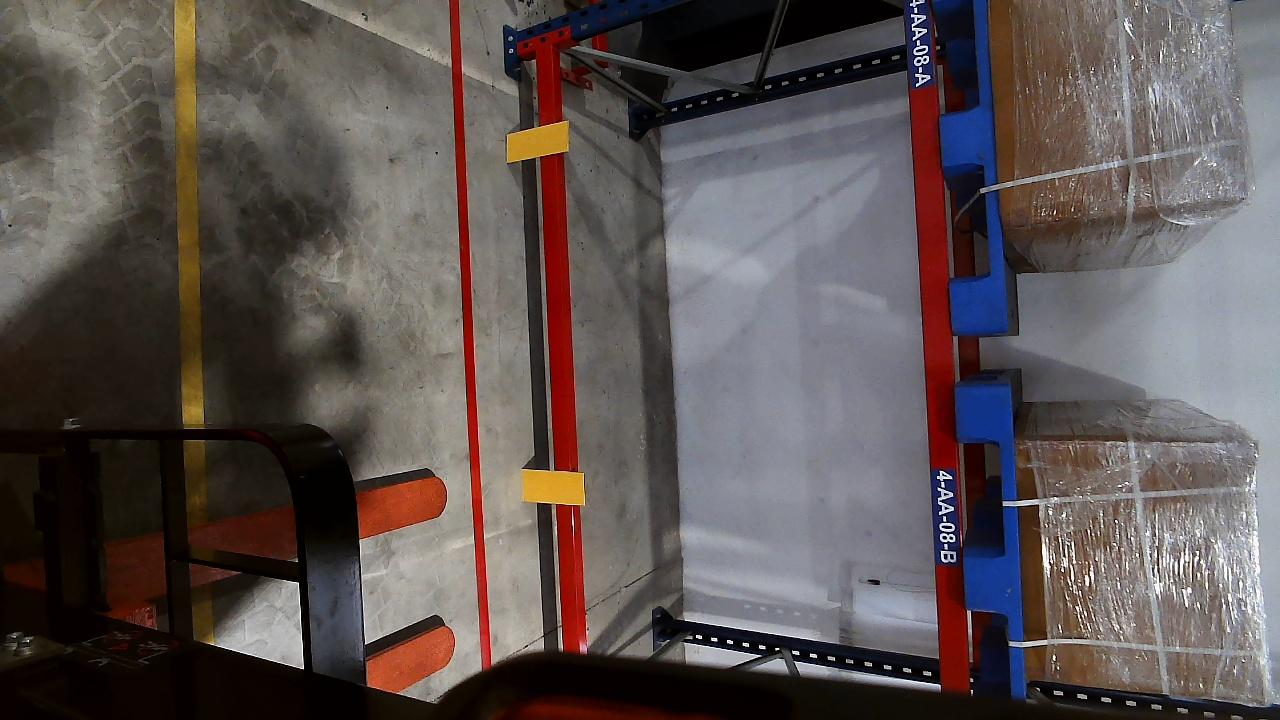h_rack: (901, 0, 964, 698), (535, 43, 582, 655)
orange_strip: (504, 122, 568, 163), (520, 469, 584, 505)
red_line: (448, 0, 480, 434)
small_pallet: (926, 2, 1007, 323), (953, 389, 1031, 690)
yellow_line: (171, 2, 206, 425)
